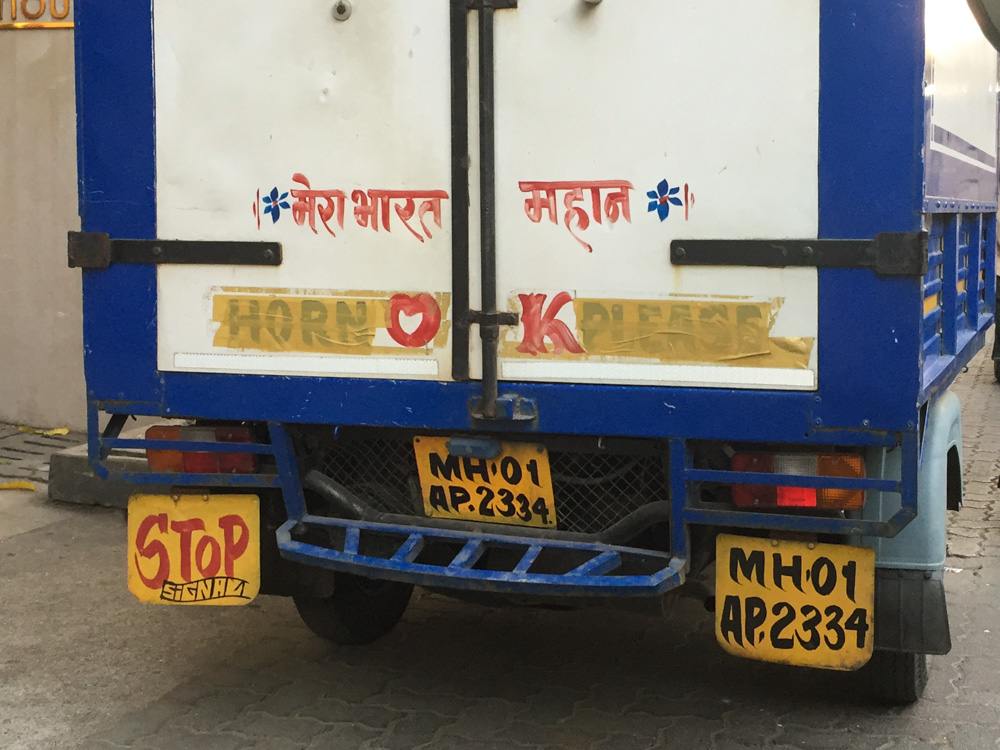doublelinenumberplate: (709, 525, 878, 674), (404, 435, 558, 526)
